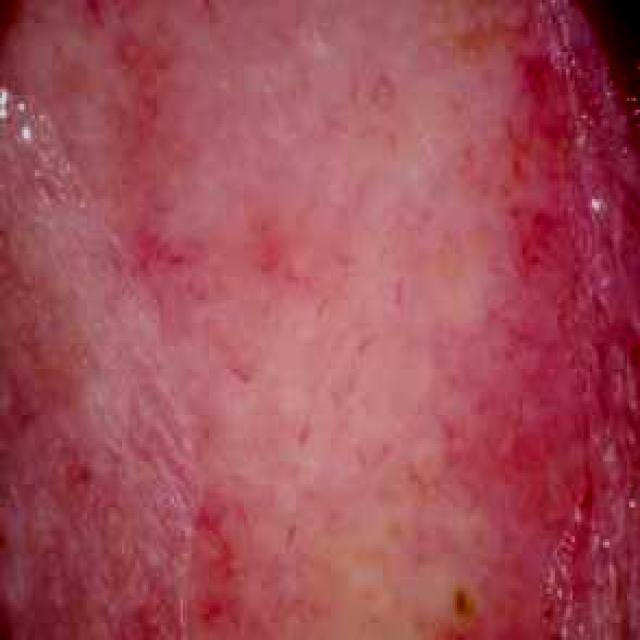Rosacea: (41, 25, 640, 640)
